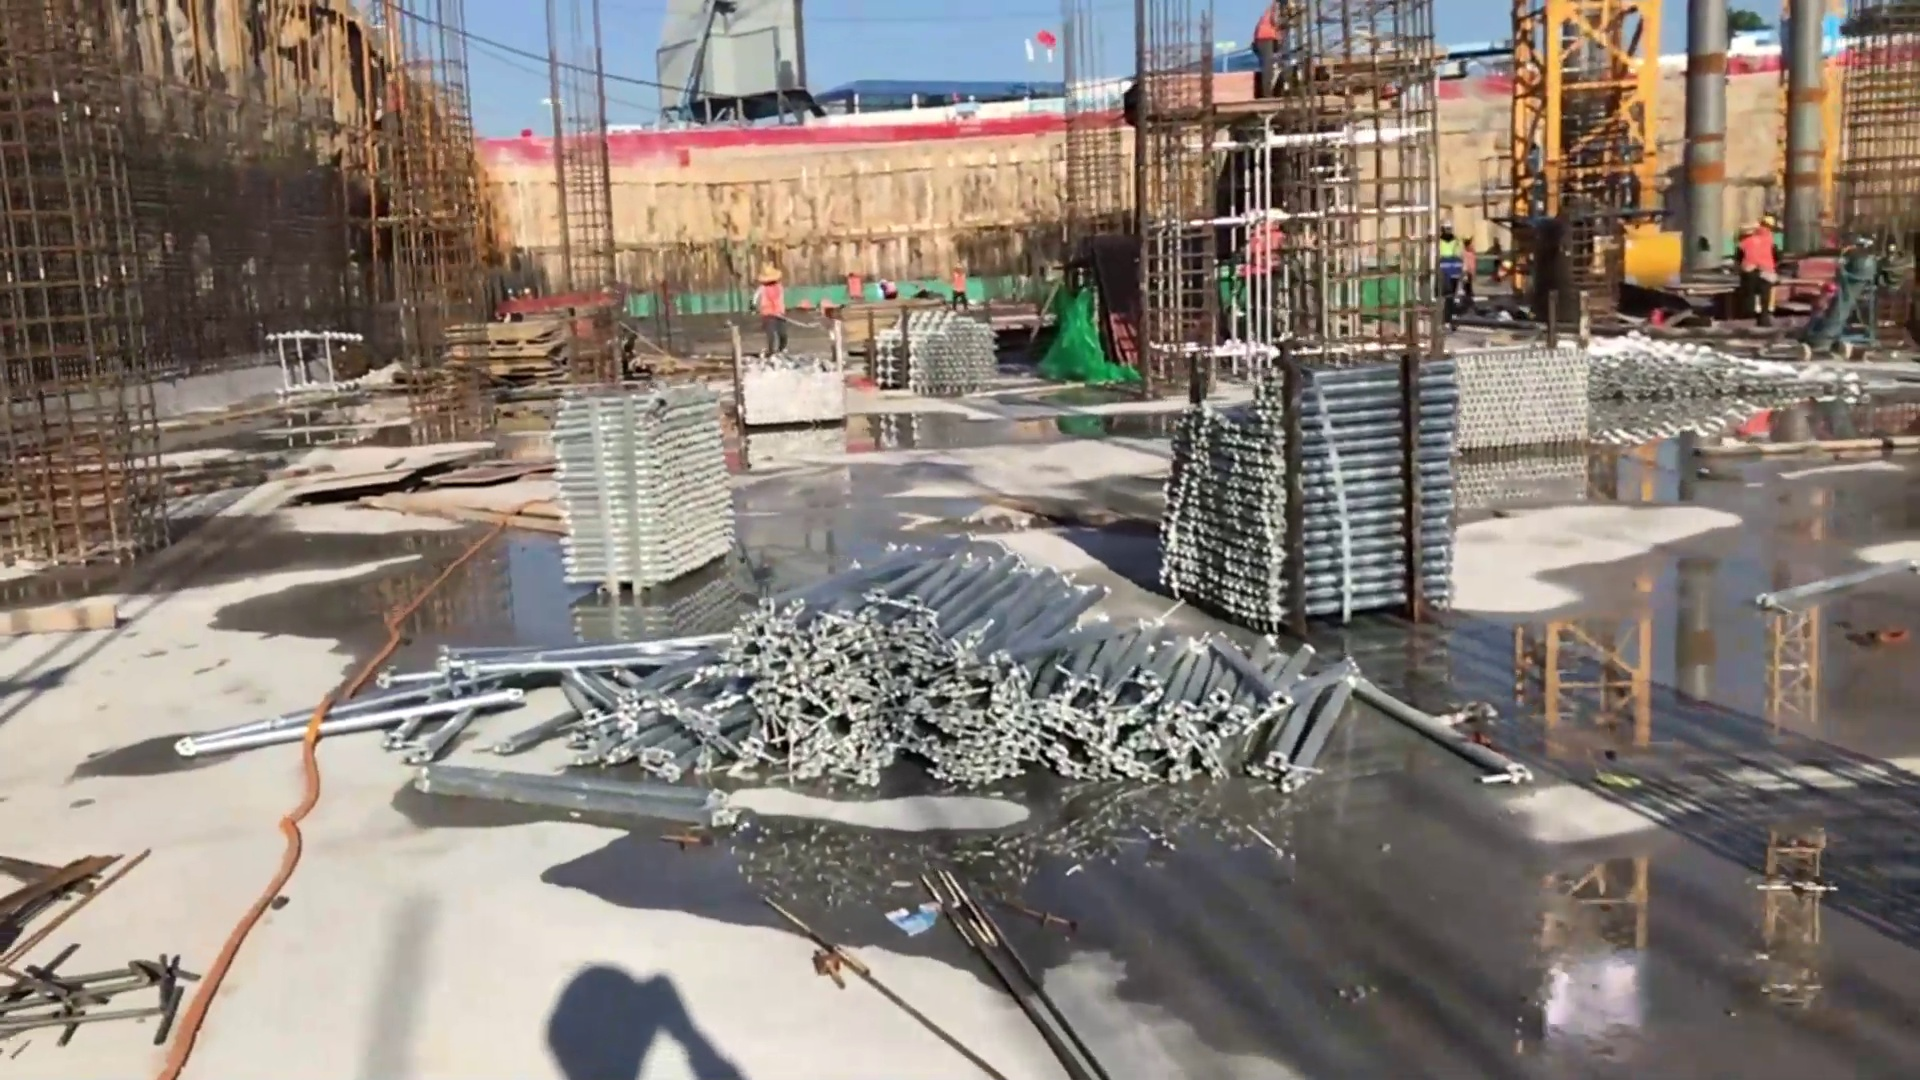board: (438, 311, 566, 384)
person: (1244, 1, 1305, 103), (739, 261, 792, 356), (1435, 224, 1481, 319), (1739, 227, 1770, 312), (1755, 207, 1783, 295), (944, 262, 974, 307), (838, 266, 862, 310)
scaffold: (748, 545, 1165, 789), (1169, 367, 1448, 620), (561, 392, 737, 588), (1454, 343, 1588, 446), (1589, 331, 1748, 400), (911, 315, 998, 395)
